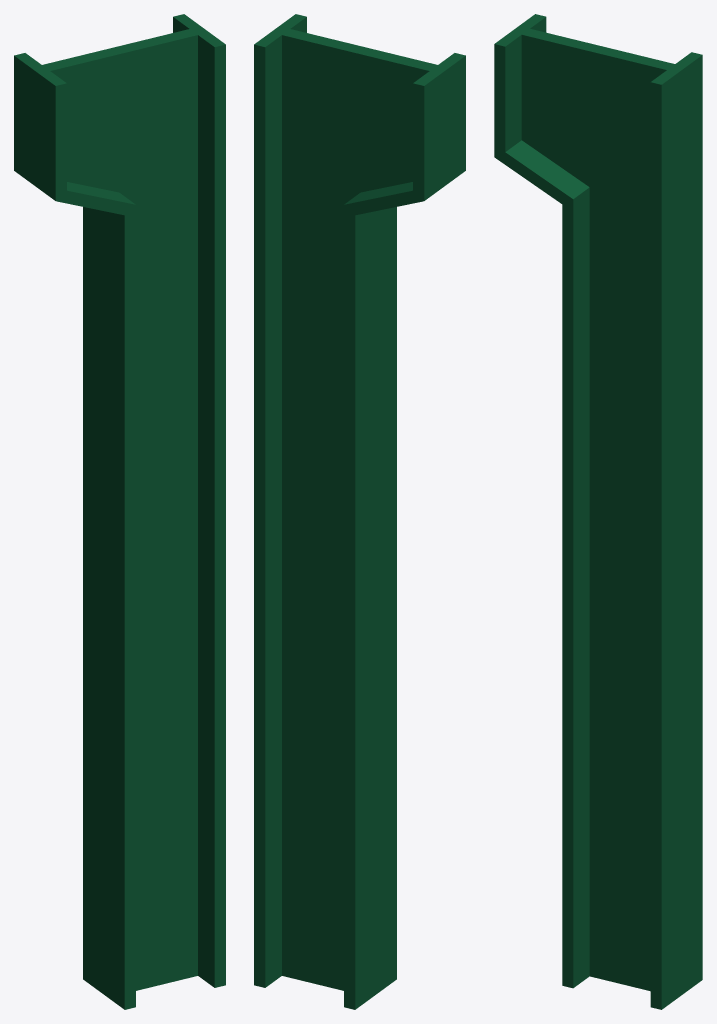
The model's file is Industry_Pillar1_low.fbx.
3 renders of one model, left to right at view 1: azimuth 30°, elevation 25°; view 2: azimuth 150°, elevation 25°; view 3: azimuth 330°, elevation 25°, orthographic.
Visible parts, largest first — view 1: Industry_Pillar1_low; view 2: Industry_Pillar1_low; view 3: Industry_Pillar1_low.
Boxes of the visible parts, x1=… form: Industry_Pillar1_low: x1=14, y1=14, x2=225, y2=1009; Industry_Pillar1_low: x1=254, y1=14, x2=465, y2=1009; Industry_Pillar1_low: x1=494, y1=14, x2=702, y2=1009.
Size of the model in its own units: 151 by 800 by 64.31.
